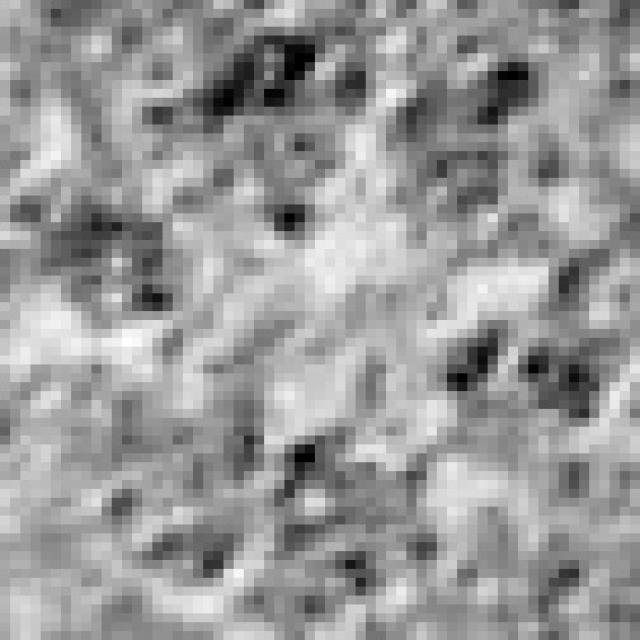inner: (202, 248, 471, 420)
lobe: (141, 31, 374, 249), (226, 431, 443, 620), (370, 55, 558, 245), (109, 359, 263, 583), (429, 311, 622, 431), (28, 197, 202, 330)
outer: (0, 0, 640, 640)
